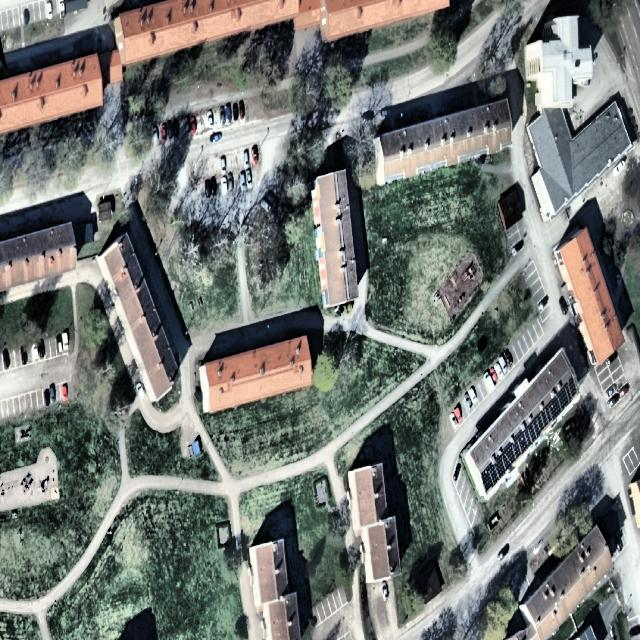roof_pv: (517, 425, 535, 451), (504, 442, 521, 466), (561, 382, 578, 406), (533, 409, 549, 434), (547, 398, 564, 420), (494, 457, 507, 482), (482, 472, 496, 493)
